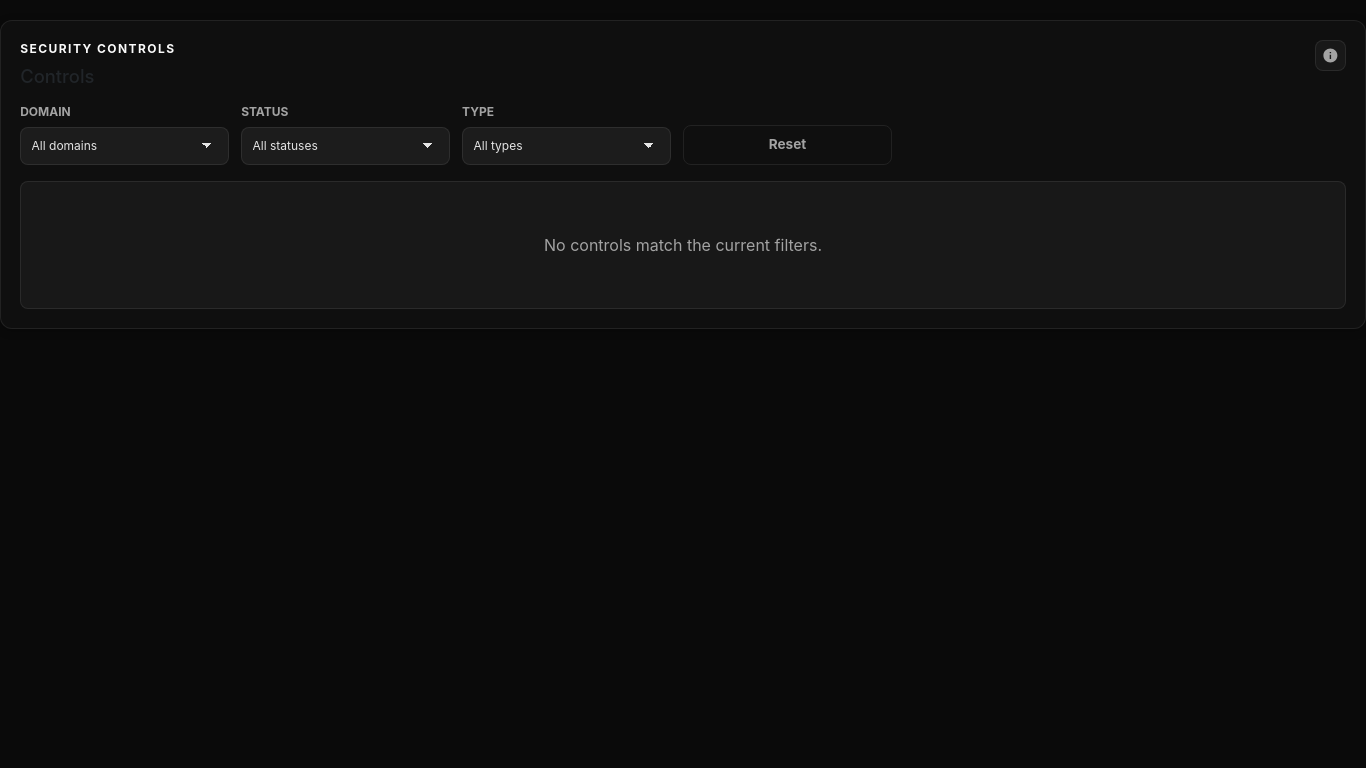
Observatory section-level help wiring › Controls section shows backend-driven help, not hardcoded copy
What coordinates should you click on to do the following:
click the button named "Explain Security Controls"
I would click on:
 (1331, 55)
Its box is [1315,40,1346,71].
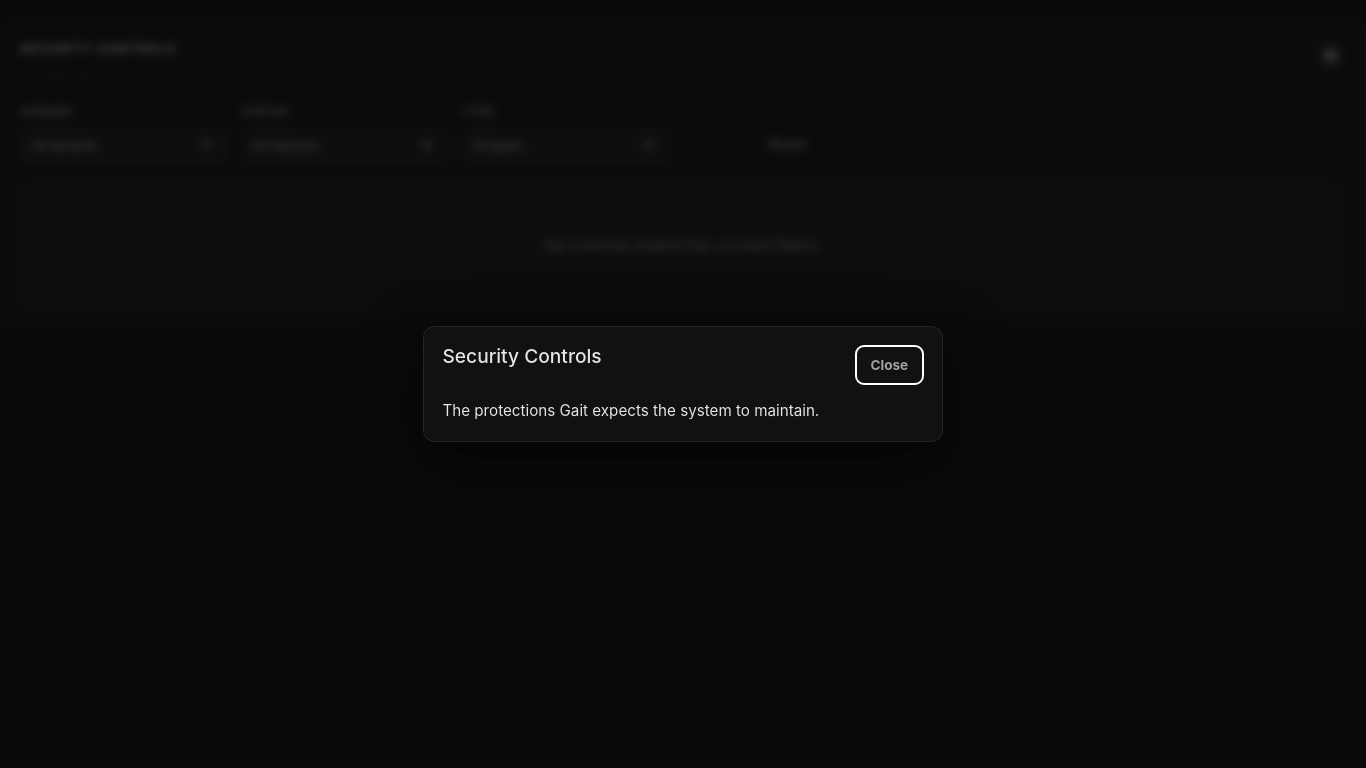
Check: the dialog "Security Controls" is shown, box [423,326,943,442]
Check: the text "The protections Gait expects the system to maintain." is shown, box [442,401,819,420]
